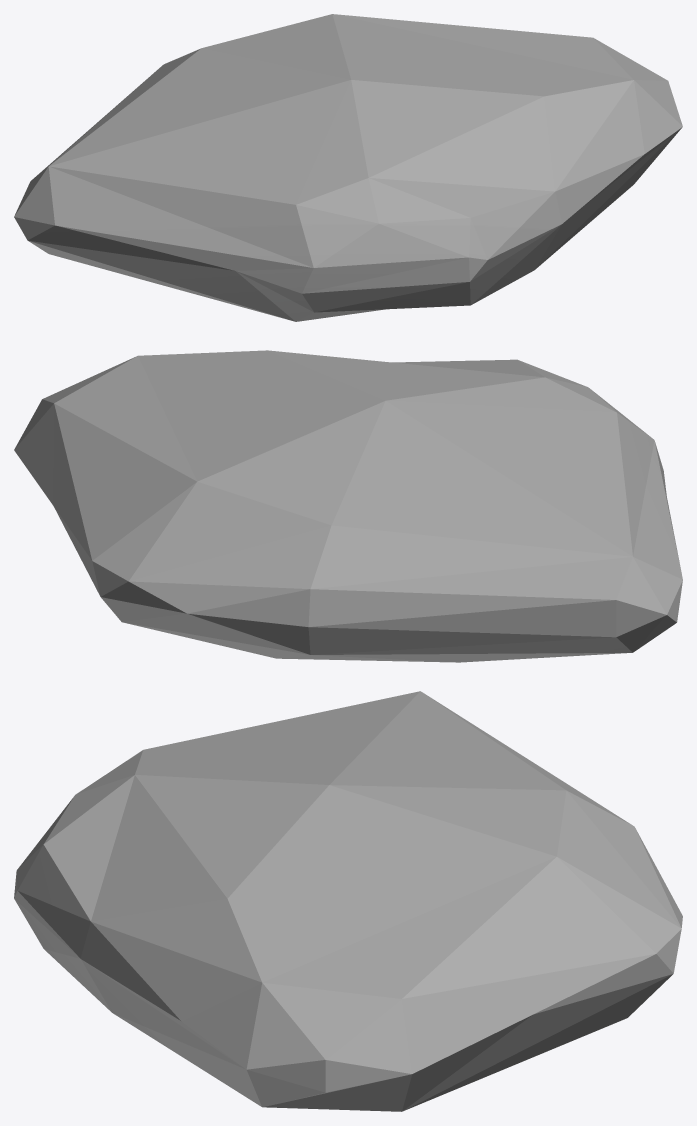
File: Rock 11.FBX
3 renders of one model, top to bottom at view 1: azimuth 30°, elevation 25°; view 2: azimuth 150°, elevation 25°; view 3: azimuth 270°, elevation 25°, orthographic. The views are drawn at different scales.
Visible parts, largest first — view 1: Box001; view 2: Box001; view 3: Box001.
Boxes of the visible parts, <box> form: Box001: <box>14,14,682,321</box>; Box001: <box>14,350,682,662</box>; Box001: <box>14,691,682,1111</box>.
Bounding box in the file's own units: 50.7 × 14.77 × 40.02.
